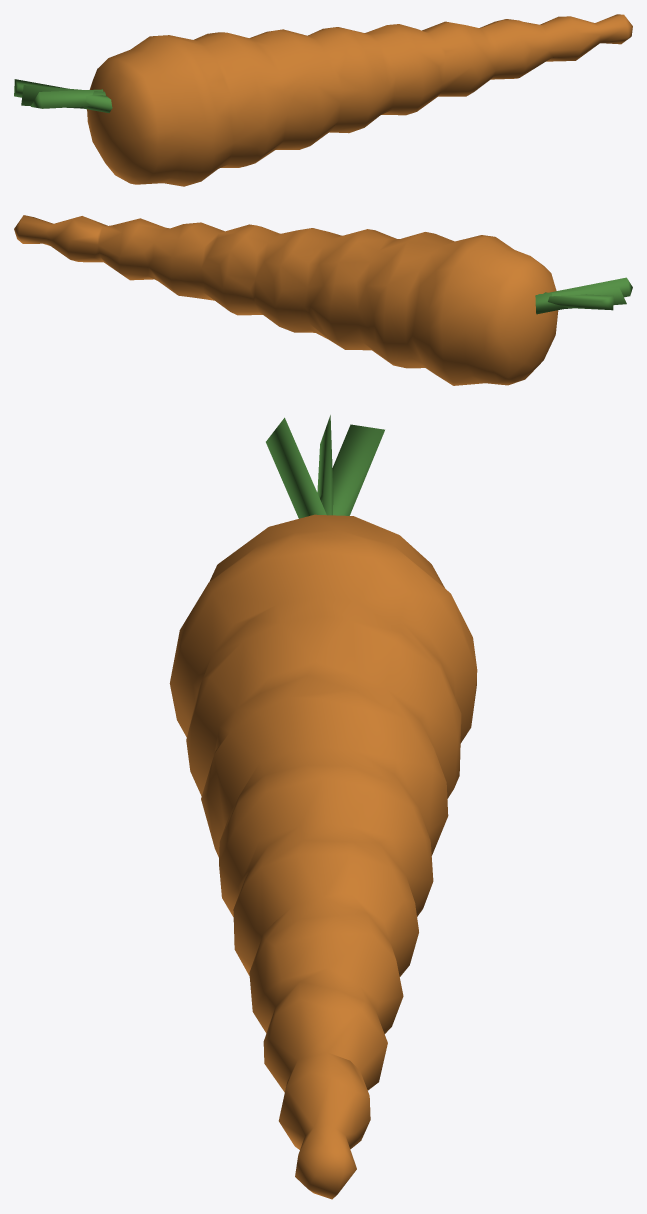
File: ca_rot.glb
3 views of the same model, one above another, from view 1: azimuth 30°, elevation 25°; view 2: azimuth 150°, elevation 25°; view 3: azimuth 270°, elevation 25° (orthographic). The views are drawn at different scales.
Parts seen in each view (by area): view 1: ca_rot; view 2: ca_rot; view 3: ca_rot.
Part boxes in pixels (bbox=[...]): ca_rot: bbox=[14, 14, 632, 186]; ca_rot: bbox=[14, 215, 632, 385]; ca_rot: bbox=[169, 415, 477, 1199].
Size of the model in its own units: 0.2279 by 0.0492 by 0.0498.
